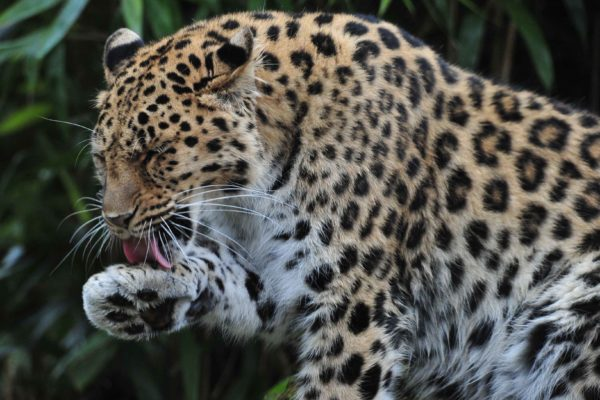amur_leopard: (34, 7, 595, 392)
